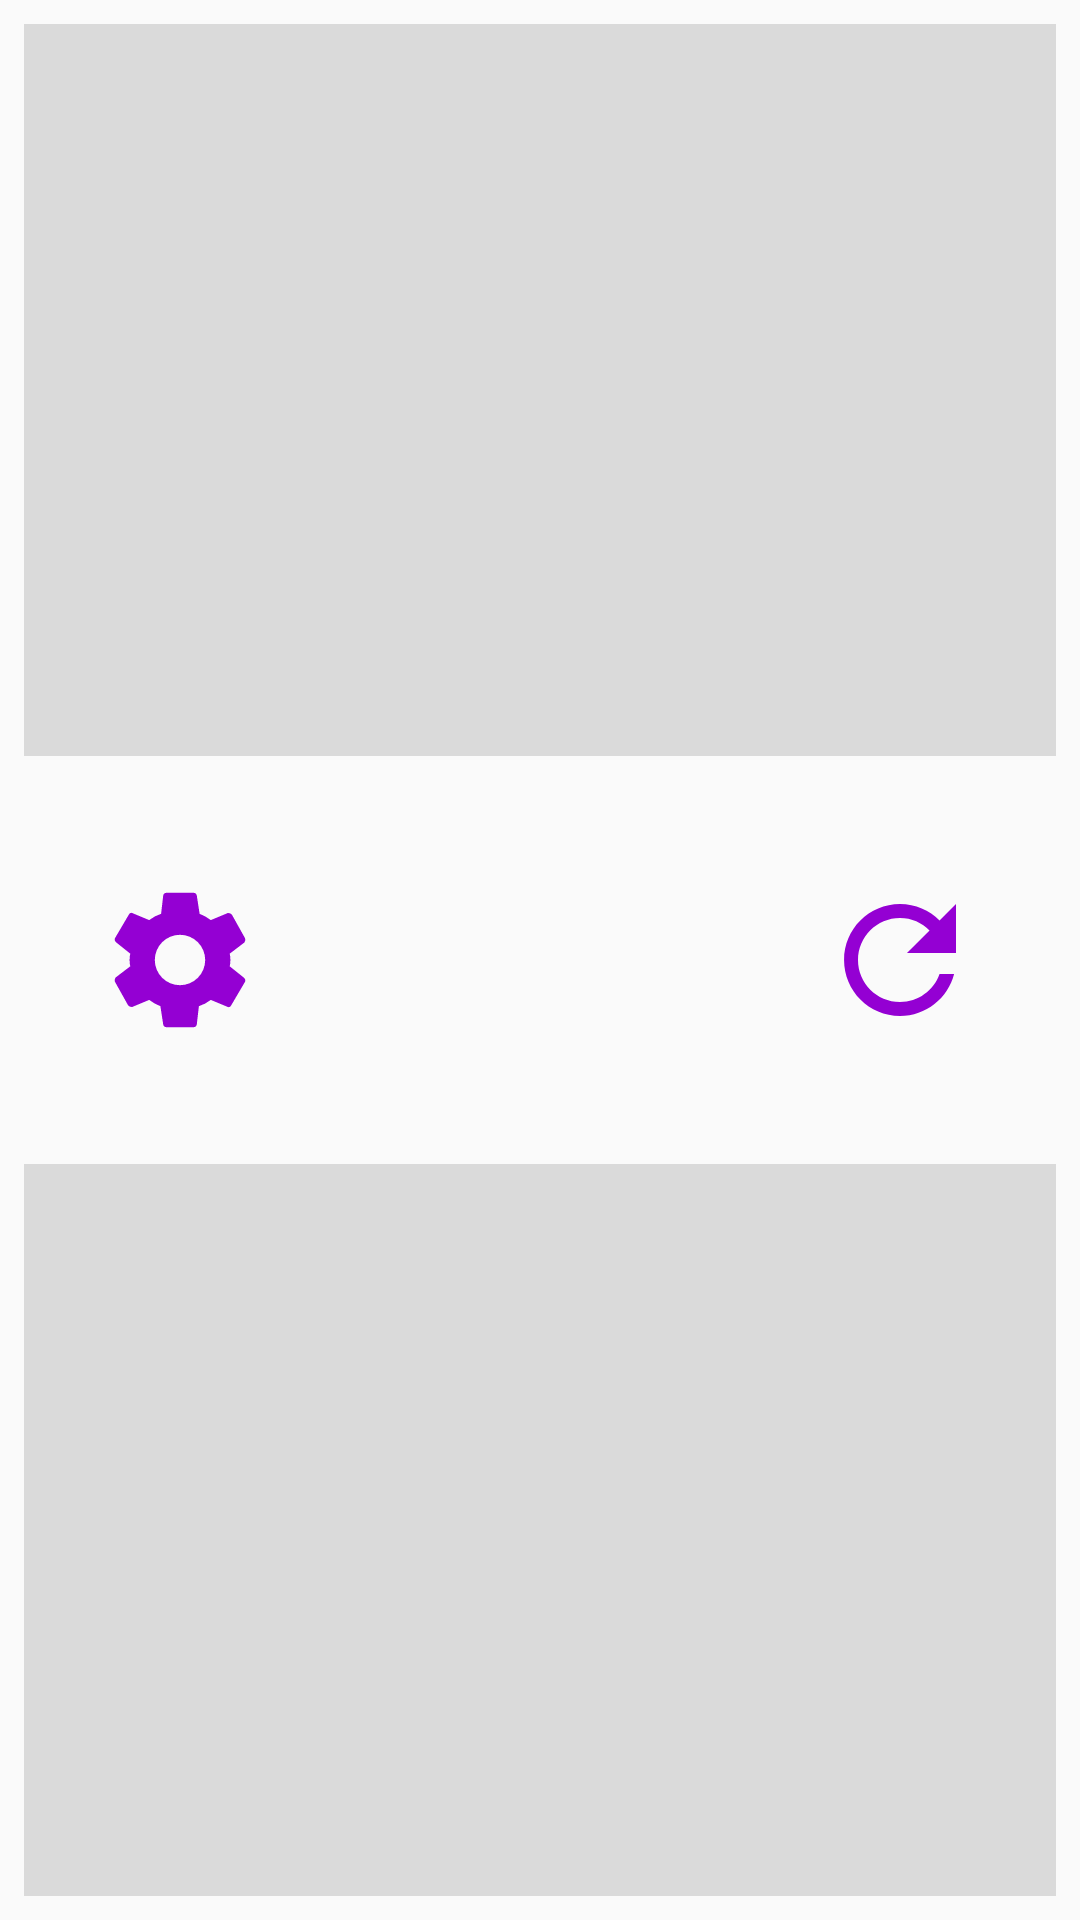

Locate icon controls on the screen. Image size 1080 x 1920, boxes as (x1, y1, x2, y2).
refresh button: (844, 904, 956, 1016)
settings: (114, 892, 246, 1028)
